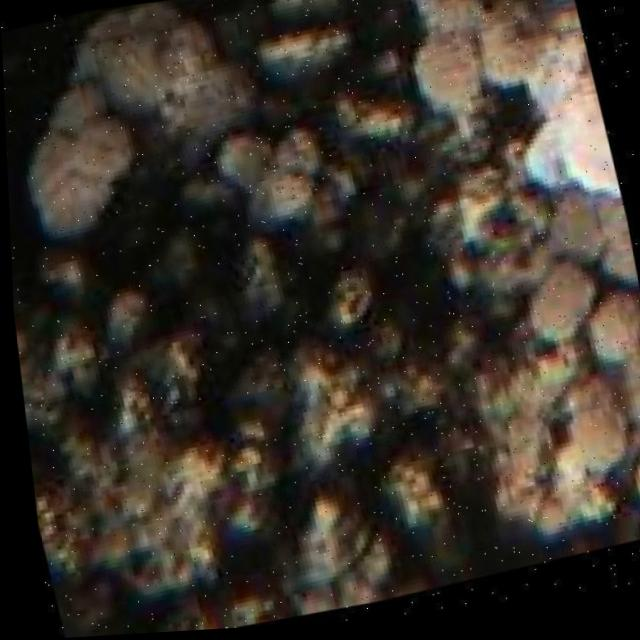Dead Coral: (0, 0, 445, 640)
